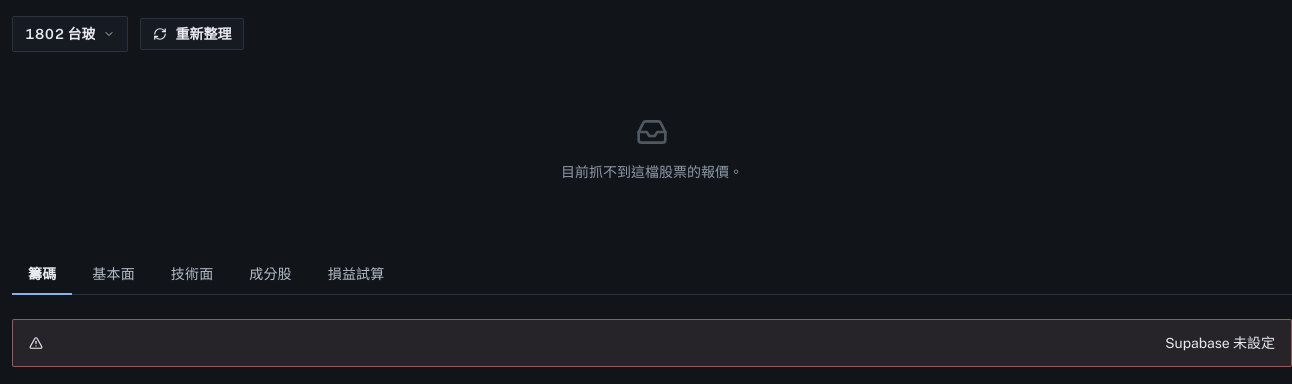
Test case: AnalysisPage › 選完自己關閉選單
This screenshot has width=1292, height=384.
Click the button with aria-label "切換個股" at (70, 34), box [12,16,128,52]
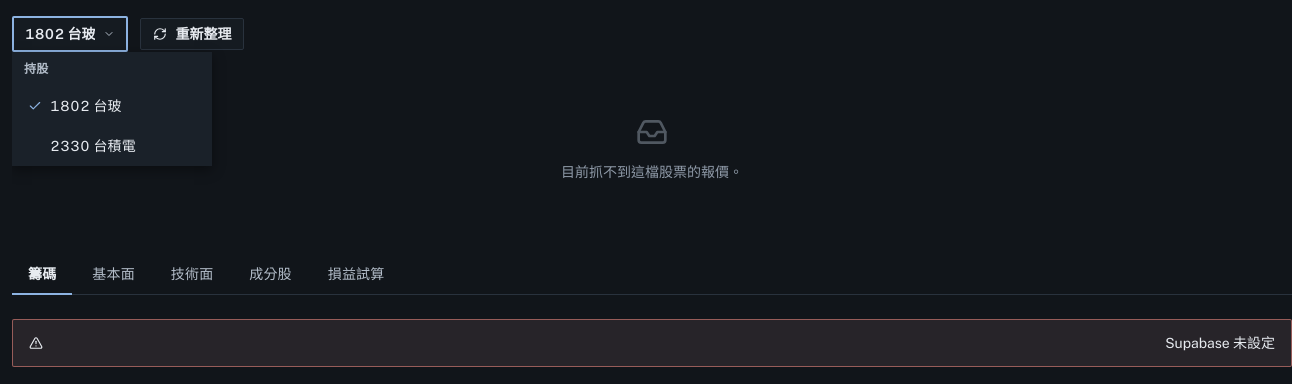
Check: the menu named "個股清單" is shown, box [12,52,212,166]
Click the menu item "2330 台積電" at (112, 146), box [12,126,212,166]
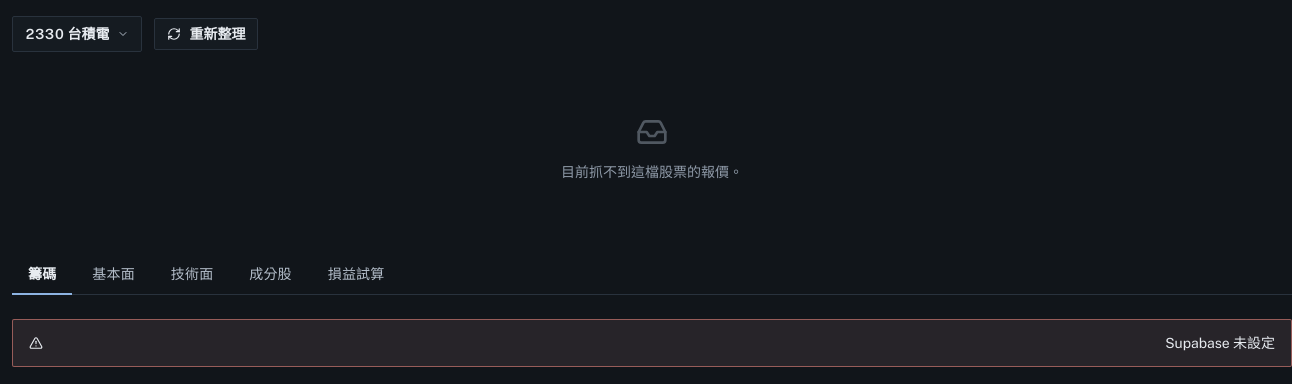
Check: the menu "個股清單" is gone
